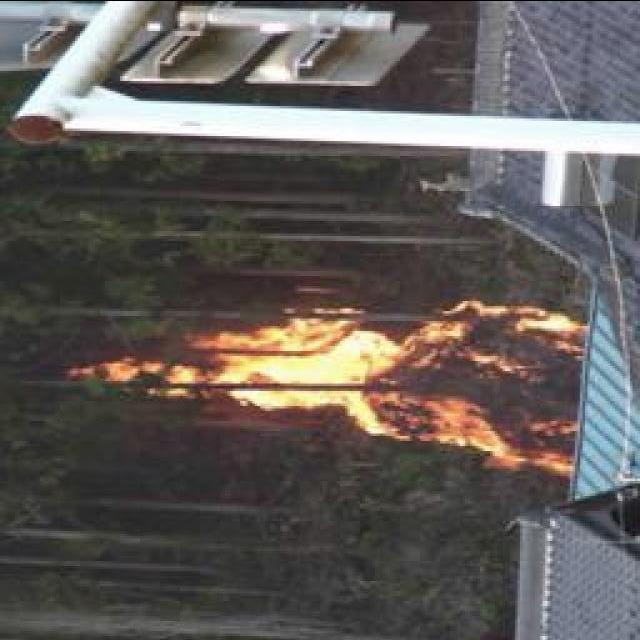Fire: (94, 296, 590, 463)
